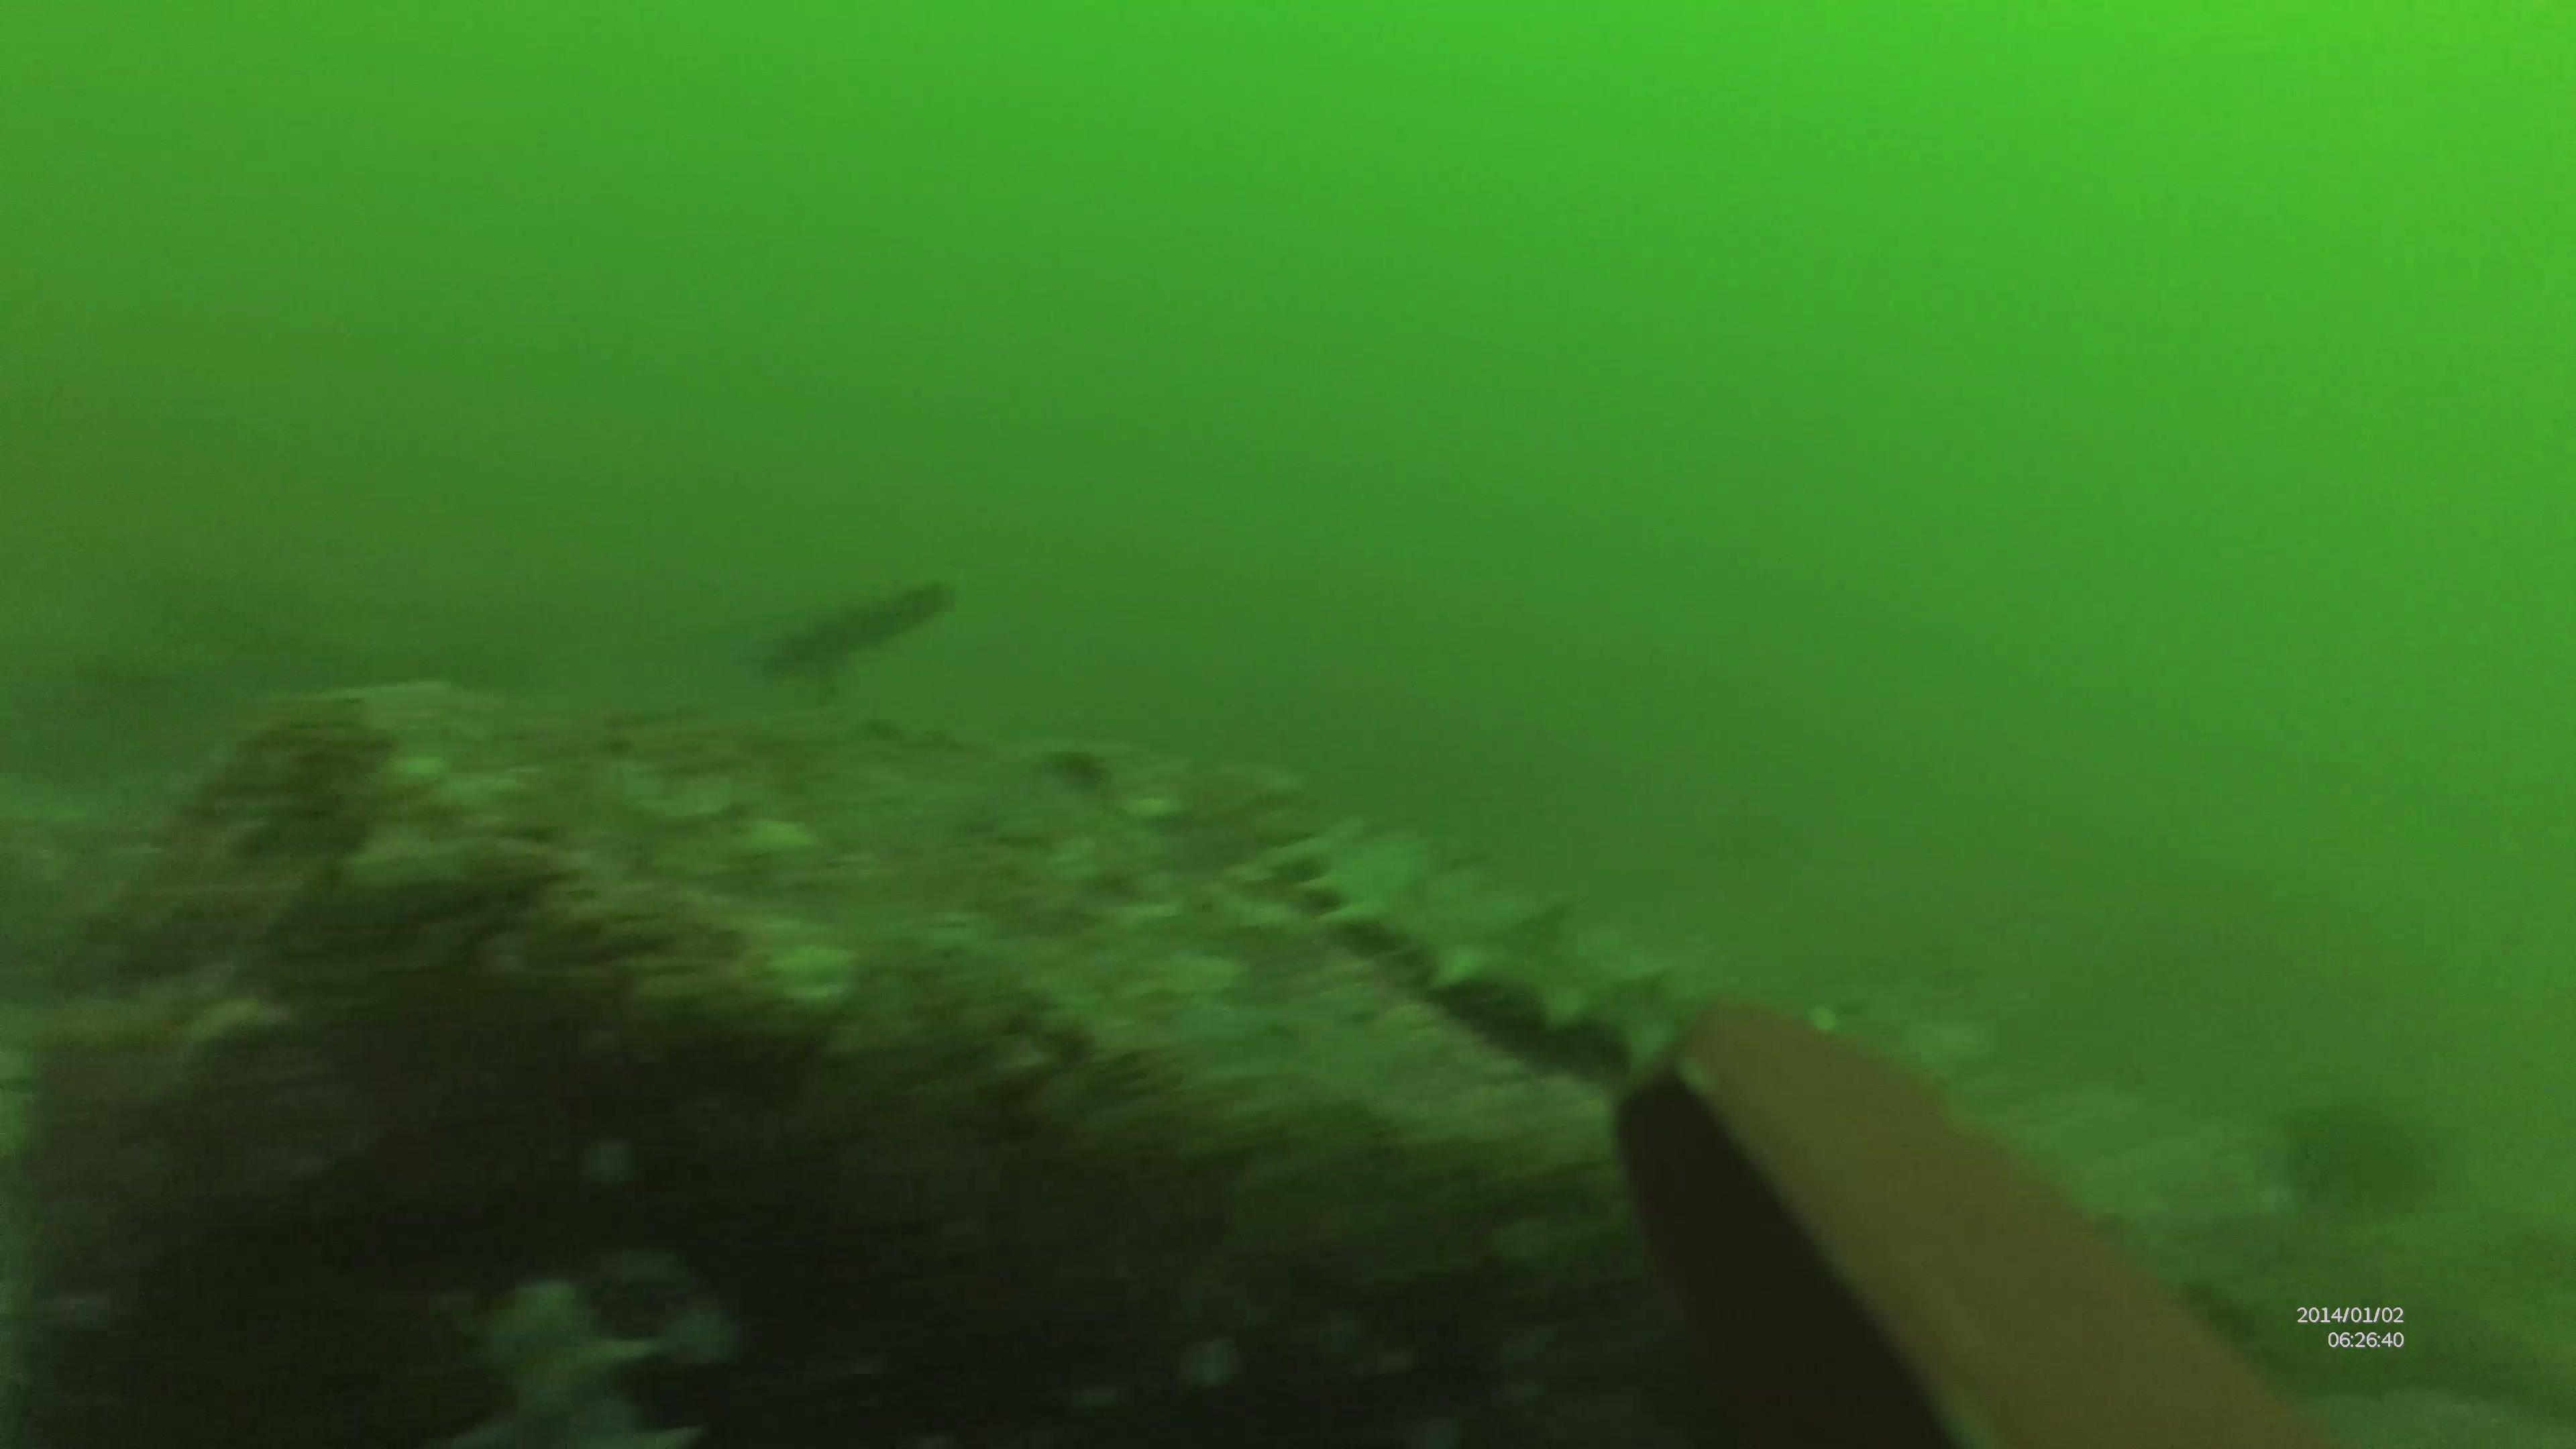holothurian: (1272, 805, 1725, 1086)
